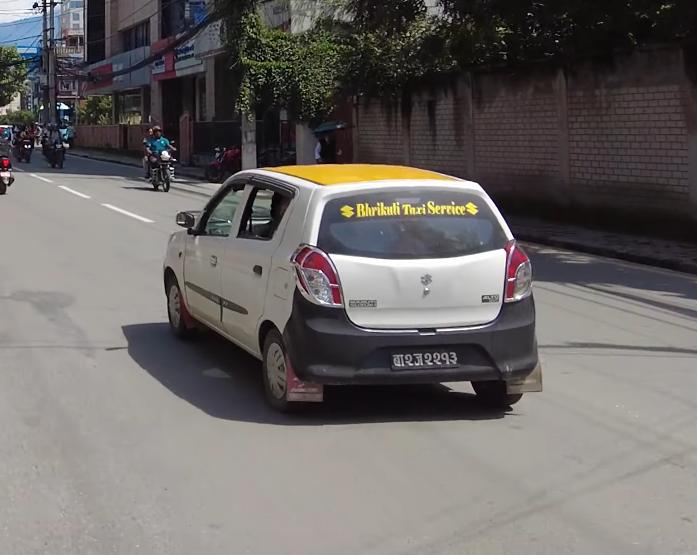bike: (141, 140, 180, 192), (40, 131, 69, 173)
taxi: (155, 152, 572, 436)
